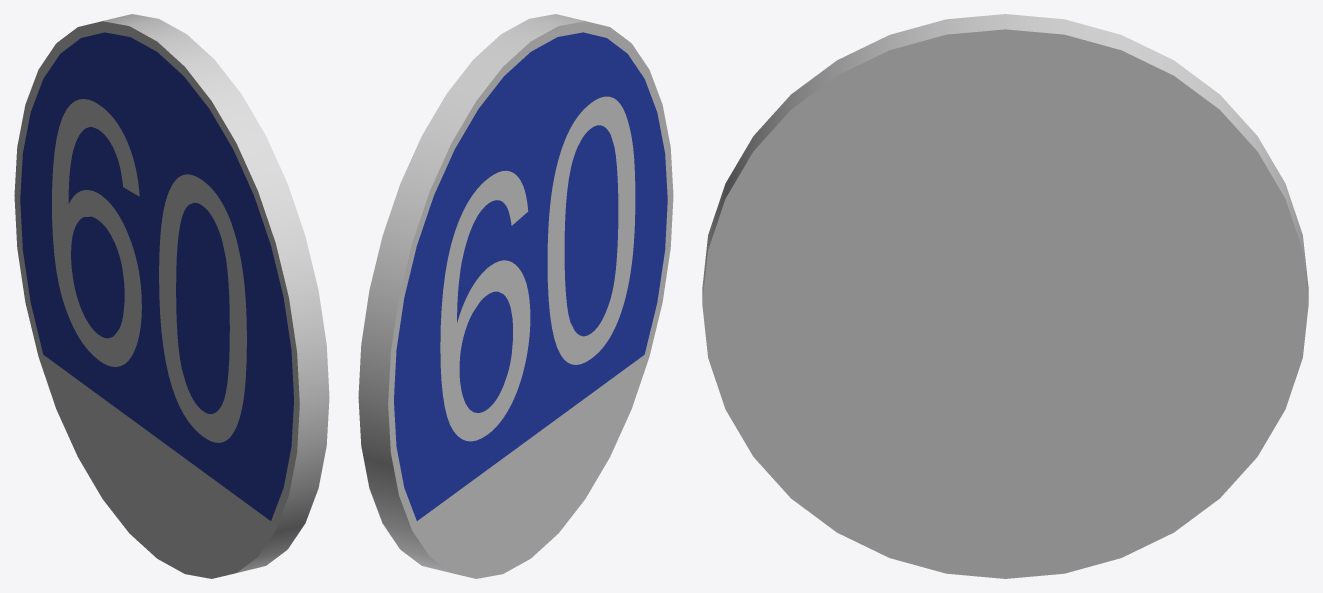
File: Minimum_Speed_Limit_60.fbx
The picture shows the model from 3 angles, left to right: view 1: azimuth 30°, elevation 25°; view 2: azimuth 150°, elevation 25°; view 3: azimuth 270°, elevation 25°; orthographic projection. The views are drawn at different scales.
Parts seen in each view (by area): view 1: Minimum_Speed_Limit_60; view 2: Minimum_Speed_Limit_60; view 3: Minimum_Speed_Limit_60.
Boxes of the visible parts, box(x1,y1,x2,y2) form: Minimum_Speed_Limit_60: box(14, 14, 329, 578); Minimum_Speed_Limit_60: box(358, 14, 673, 578); Minimum_Speed_Limit_60: box(702, 14, 1308, 578).
Bounding box in the file's own units: 0.075 × 1 × 1.
